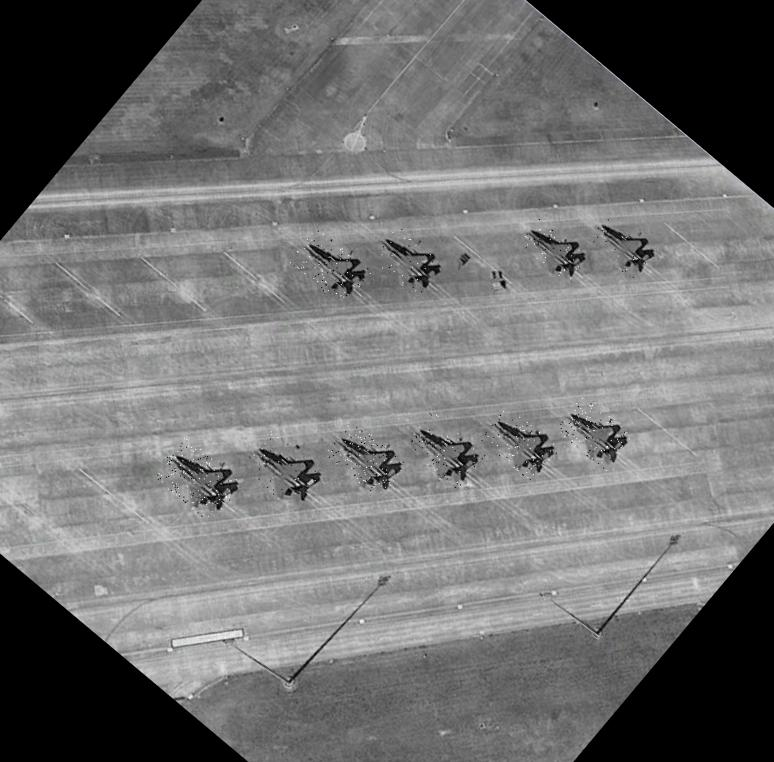A13: (151, 435, 243, 524), (238, 428, 326, 514), (286, 225, 372, 307), (324, 419, 407, 499), (402, 410, 486, 489), (554, 394, 636, 472), (366, 221, 446, 298), (480, 406, 560, 482), (582, 210, 660, 284), (517, 215, 589, 284)
